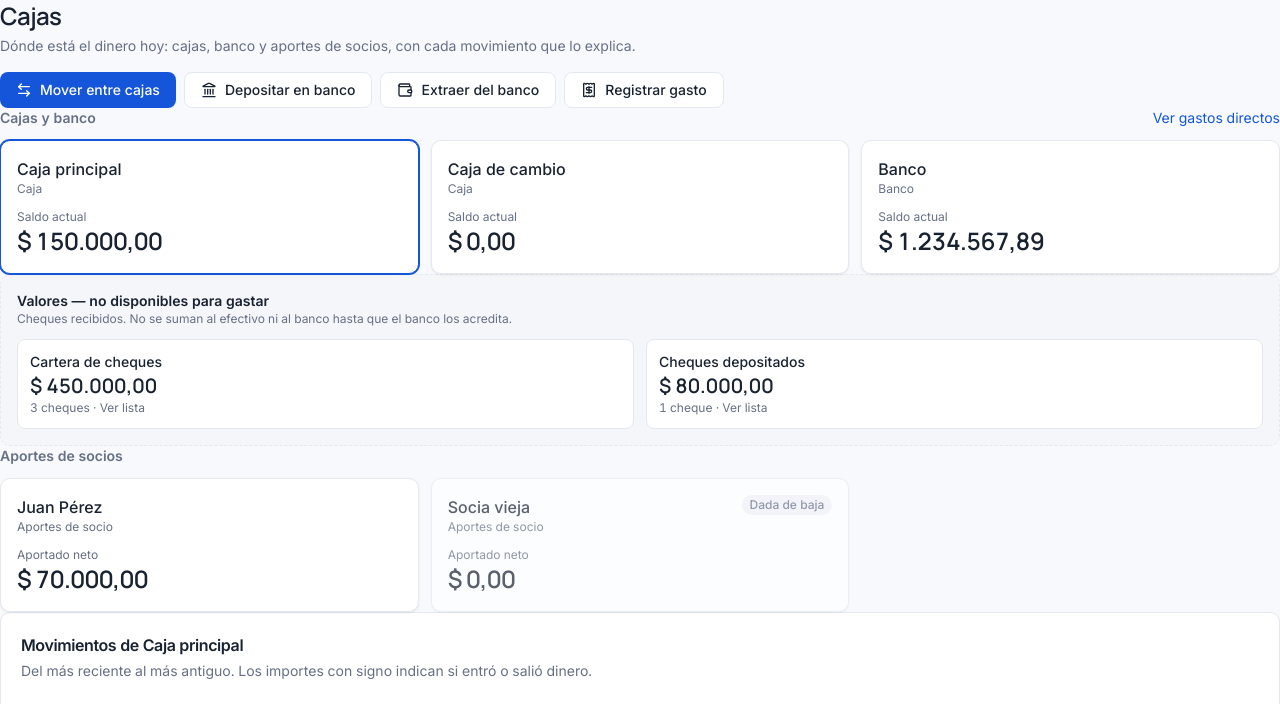
Test: CashBoard › forgets the attempt when the retry gets a definitive answer
This screenshot has width=1280, height=704.
Click the button "Mover entre cajas" at (88, 90), box 0,72 -> 176,108
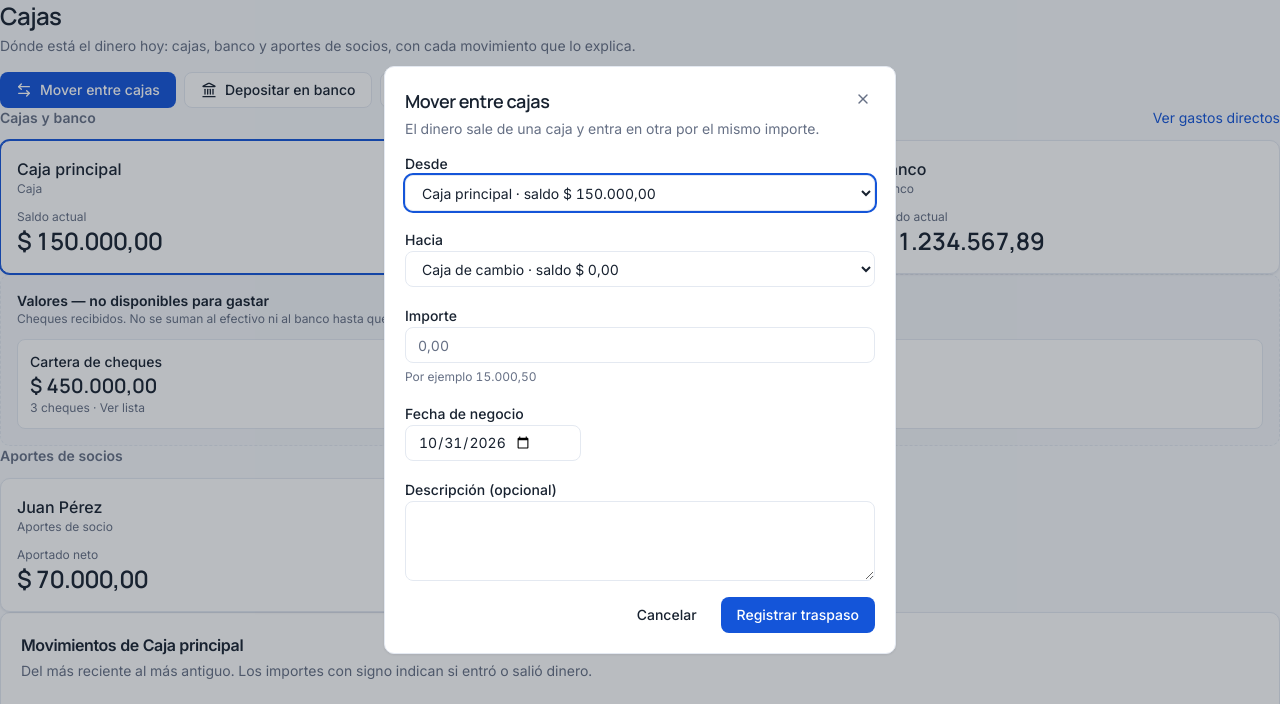
Type "10" into the field labelled "Importe" at (640, 345), box 405,327 -> 875,363
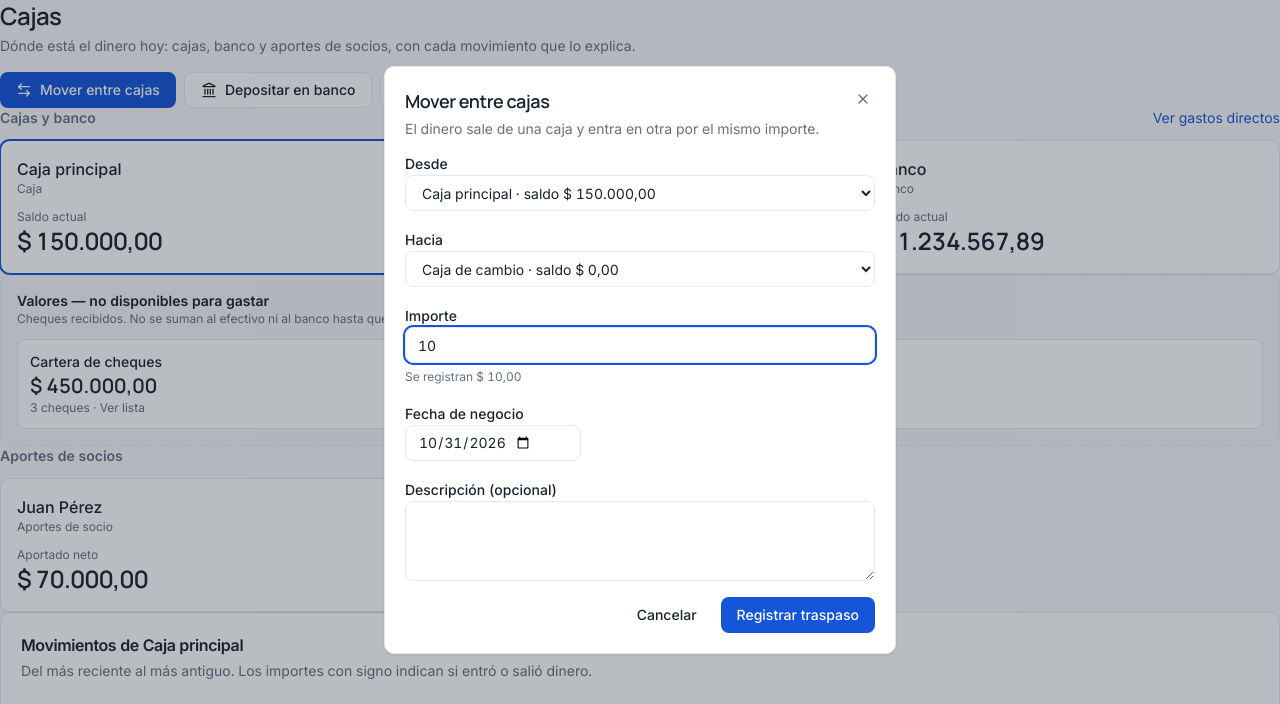
Click the button "Registrar traspaso" at (798, 615), box 721,597 -> 875,633
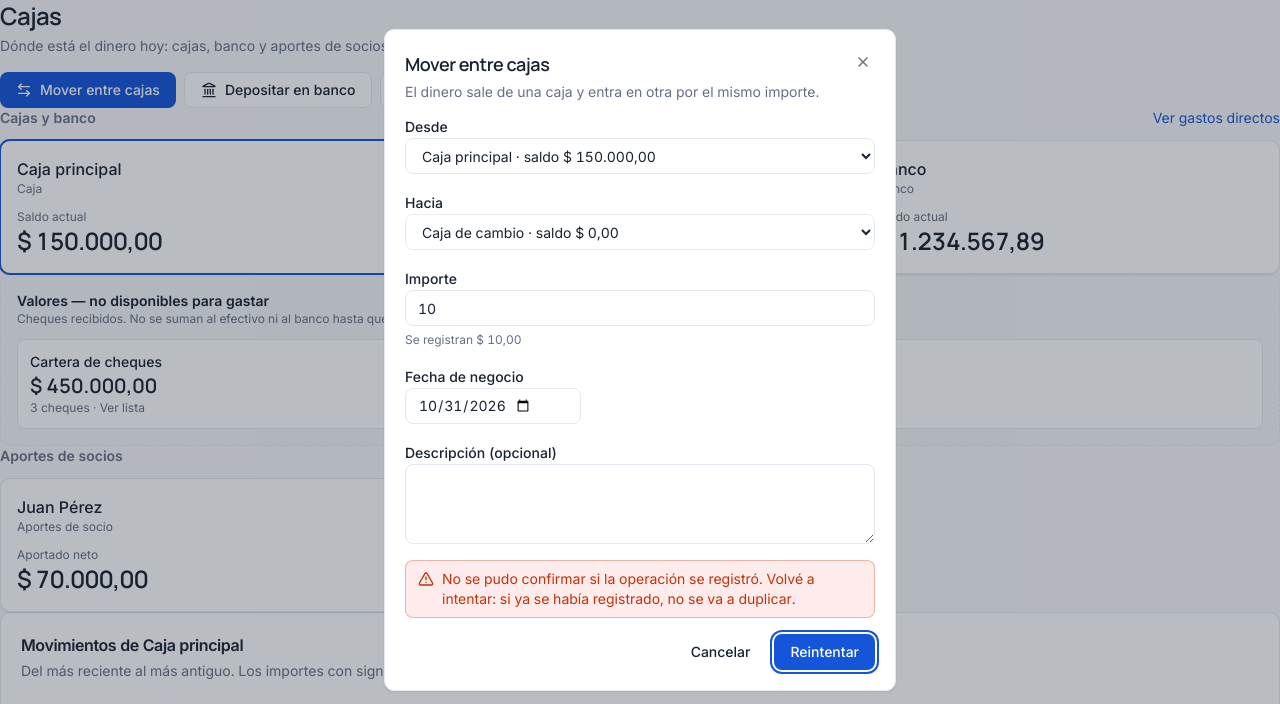
Check: the message is shown, box 405,560 -> 875,618
Click the button "Cancelar" at (720, 652), box 675,634 -> 766,670
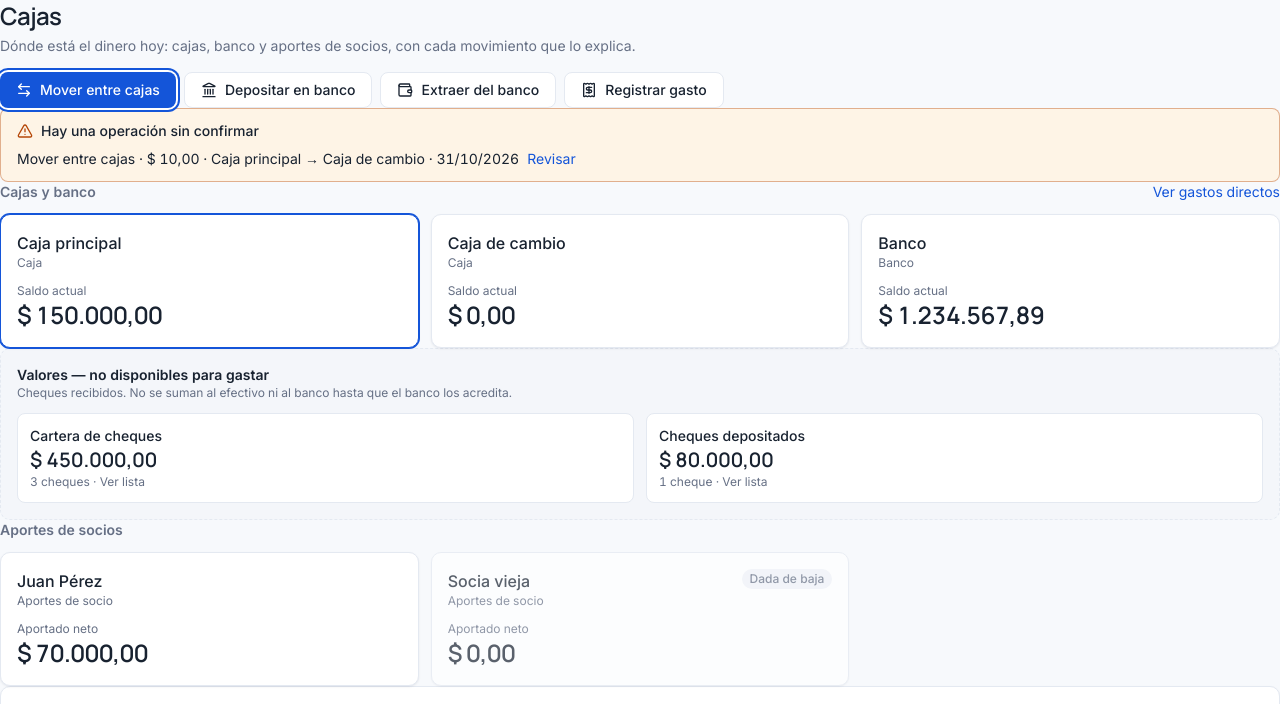
Click the button "Mover entre cajas" at (88, 90), box 0,72 -> 176,108
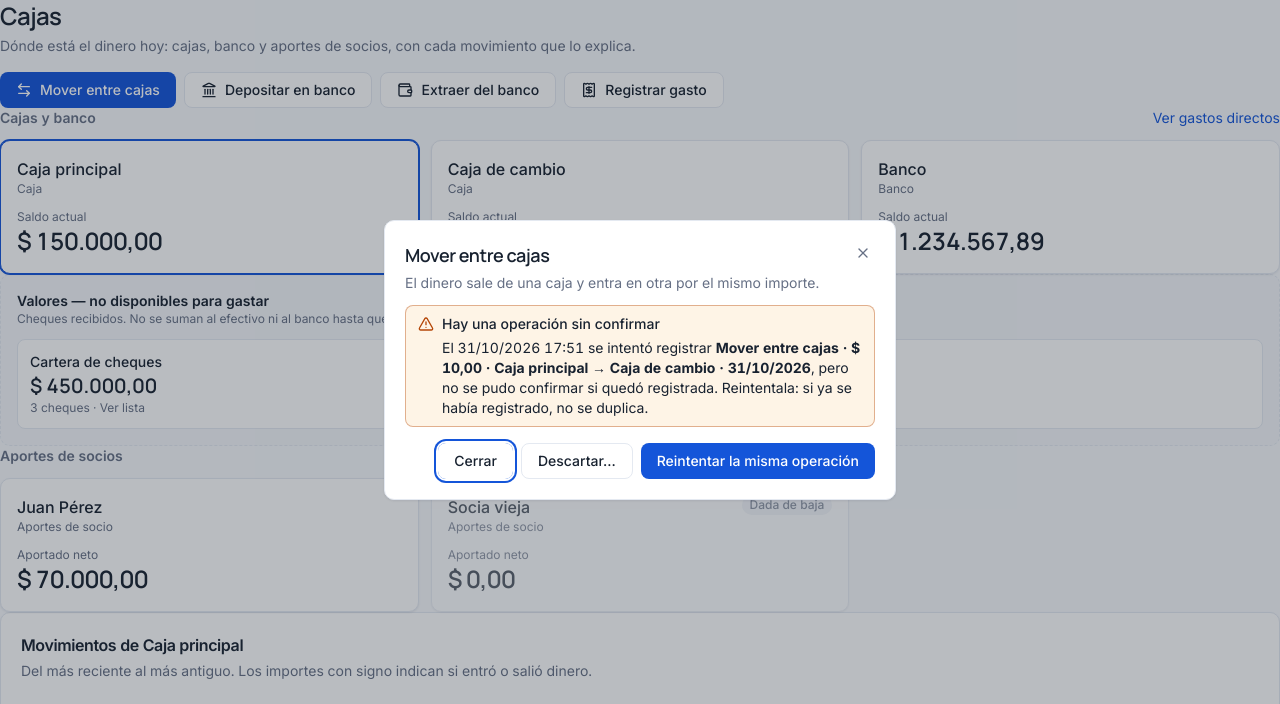
Click the button "Reintentar la misma operación" at (758, 461), box 641,443 -> 875,479
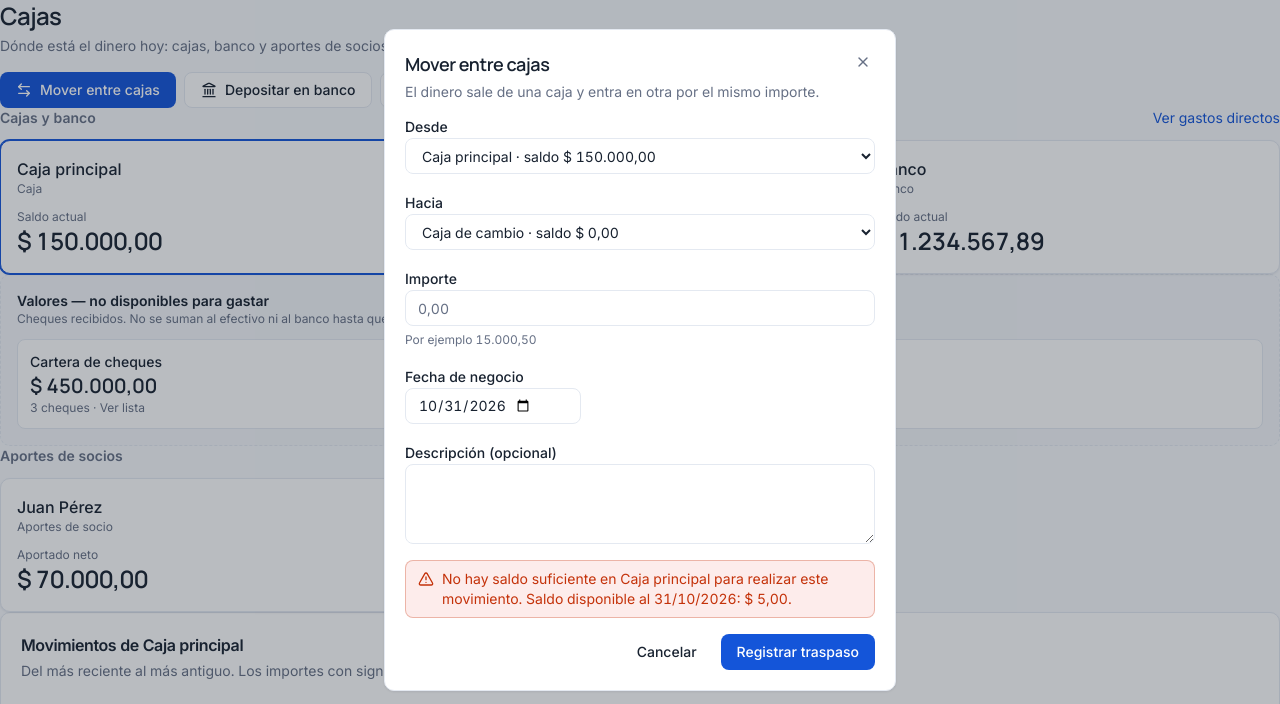
Check: the message shows "No hay saldo suficiente en Caja principal", box 442,570 -> 828,607
